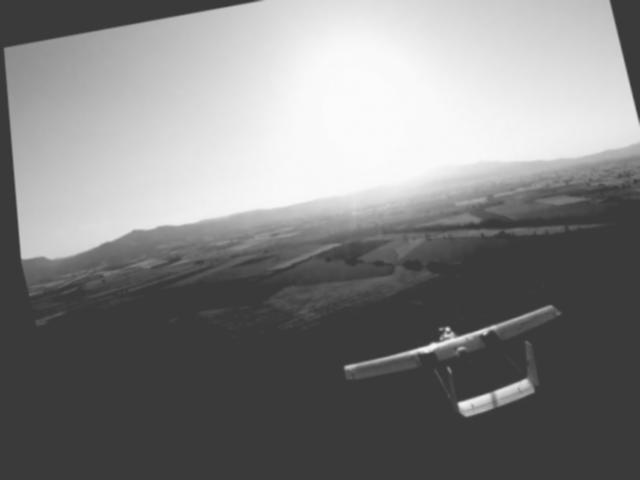hedef: (324, 295, 585, 444)
